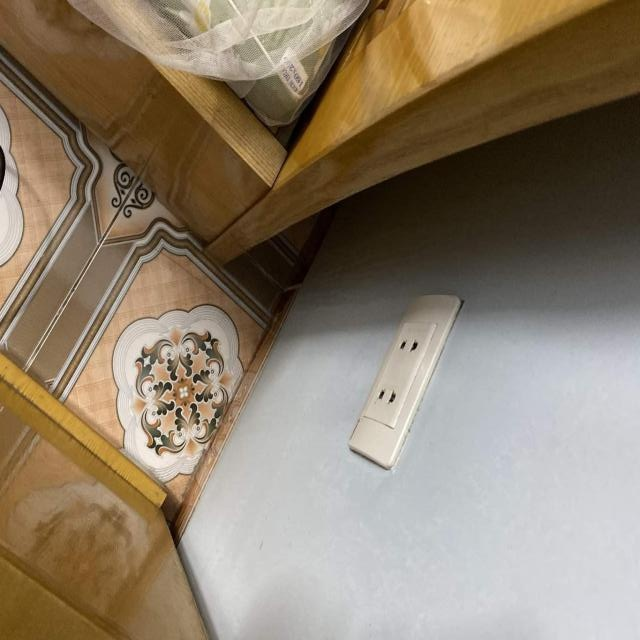outlet: (348, 293, 464, 470)
